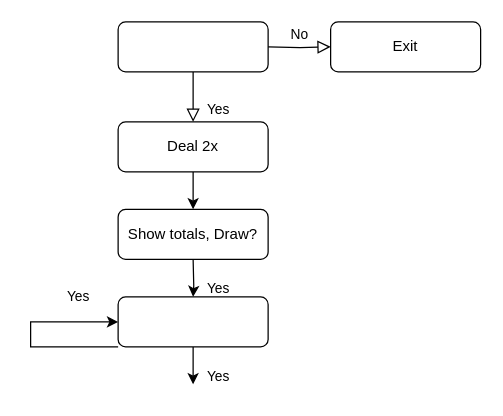
Some shapes in this 503 by 416 pixel diagram are drawn without their labels. The centre of each missing label's shape, as x and y in pixels:
"Deal, Show totals, Draw?" goes at pixel 192 321.
"Play?" goes at pixel 192 46.
